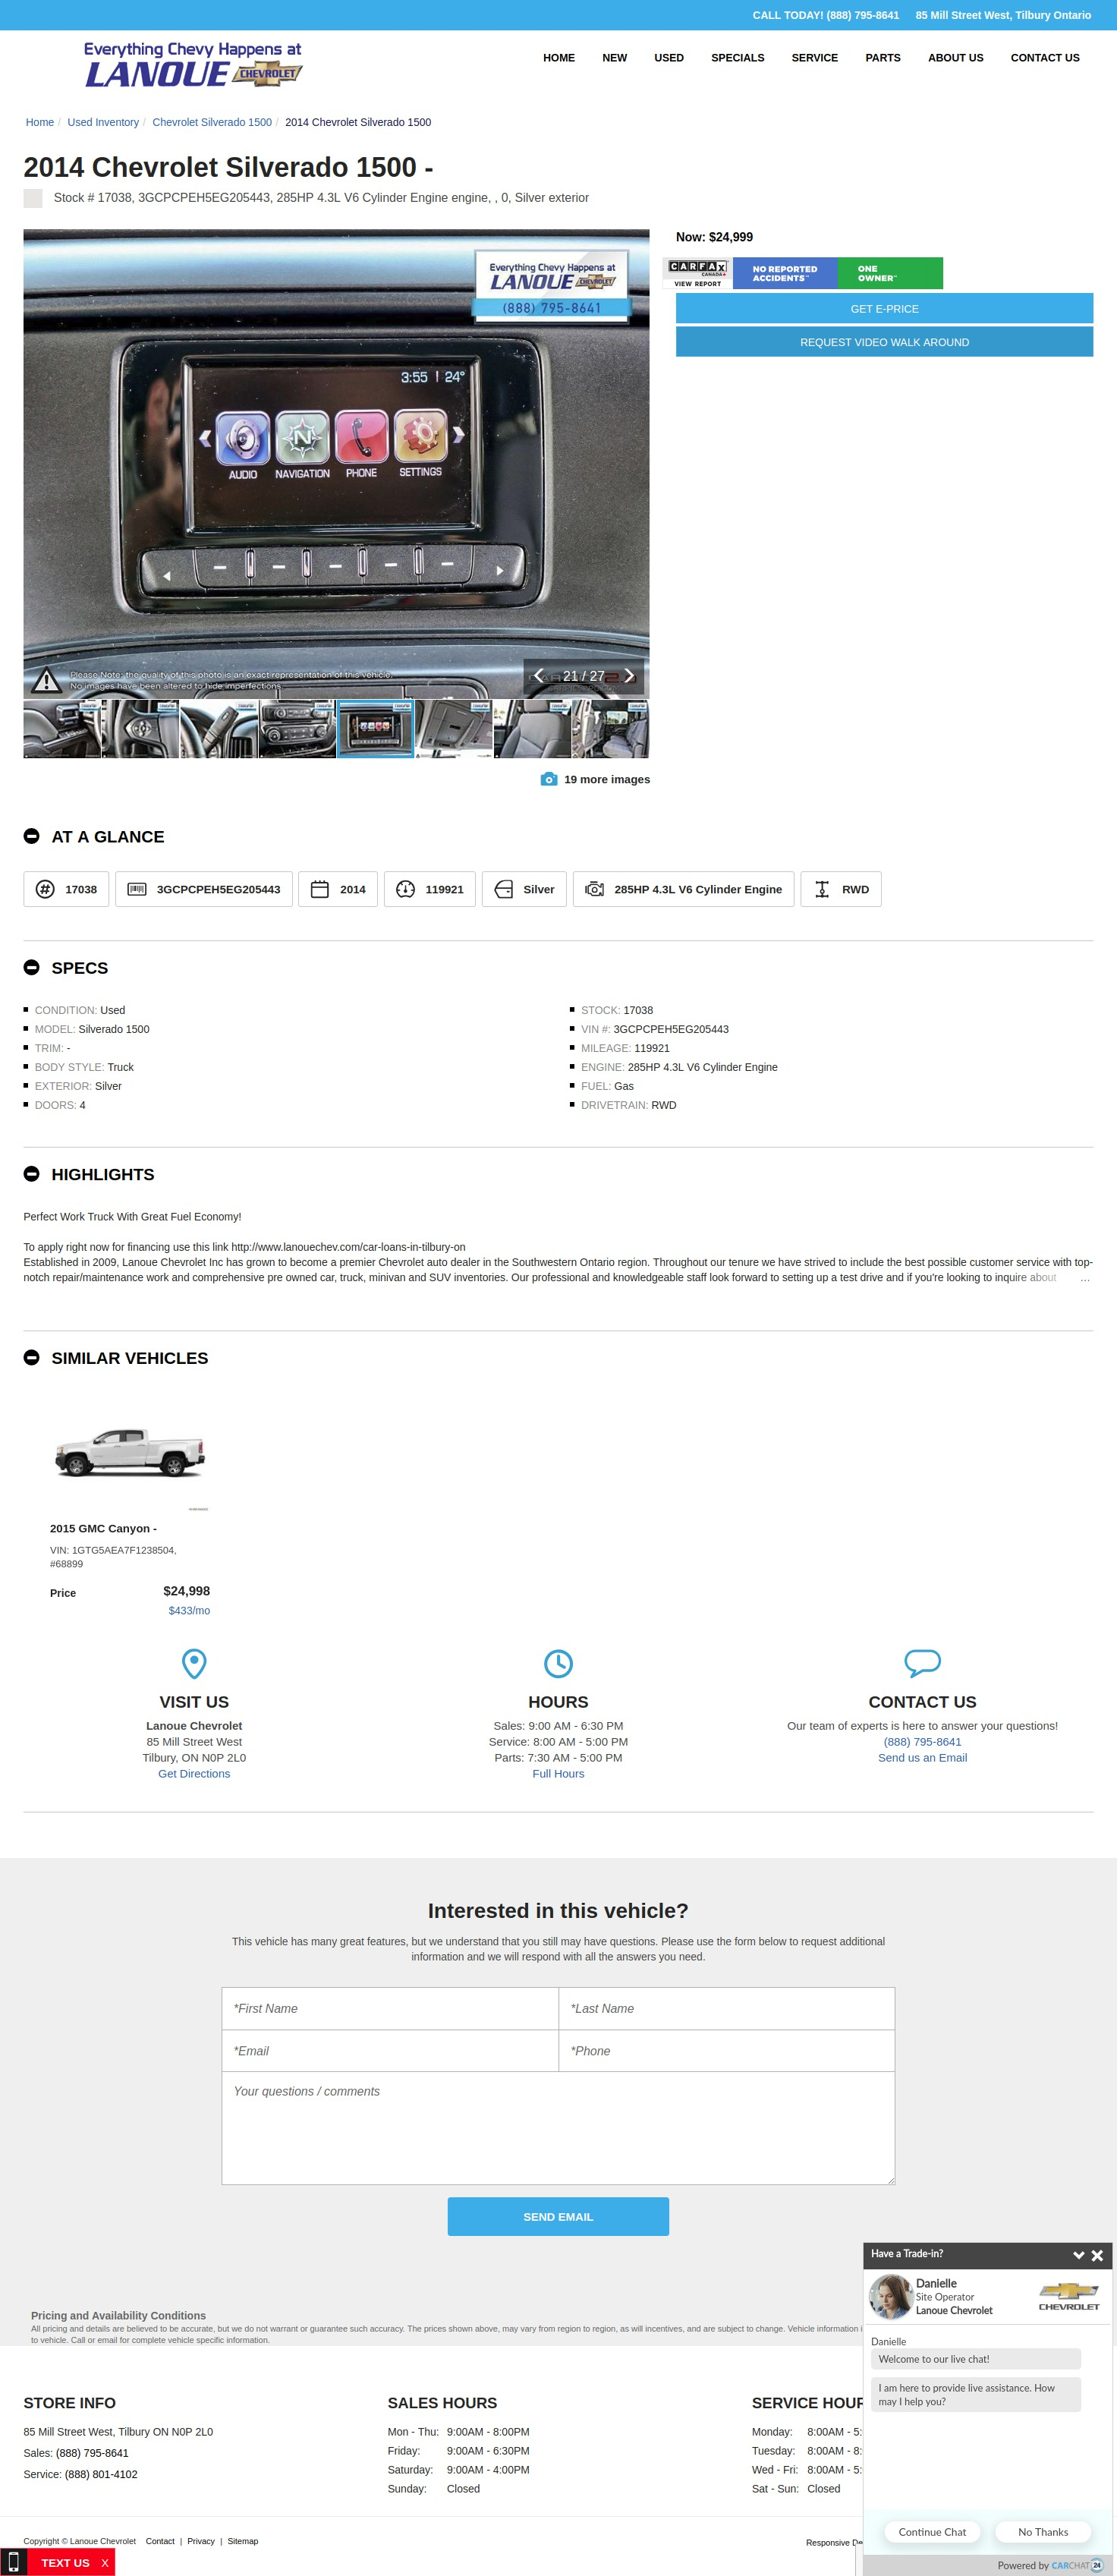car: (623, 667, 636, 687)
